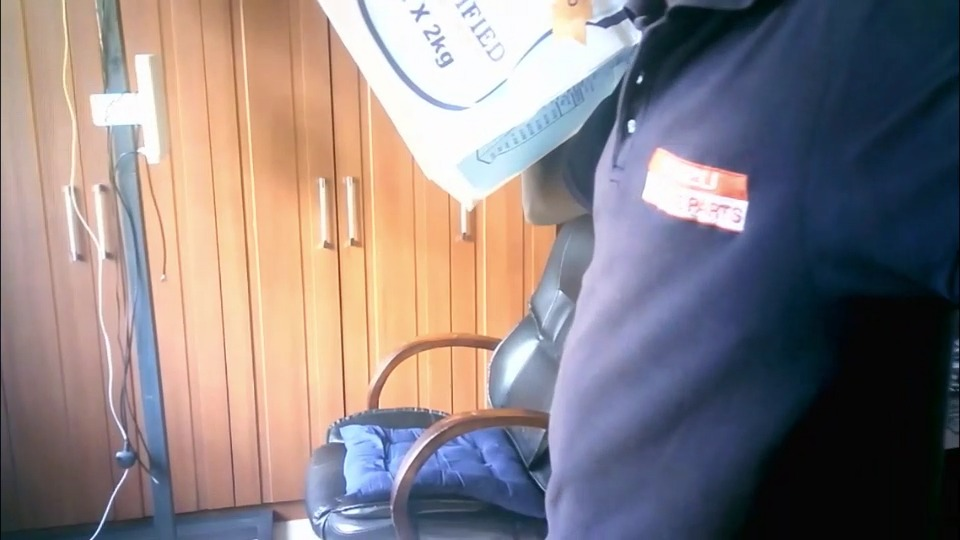wheat_flour_blue_label: (327, 2, 634, 209)
